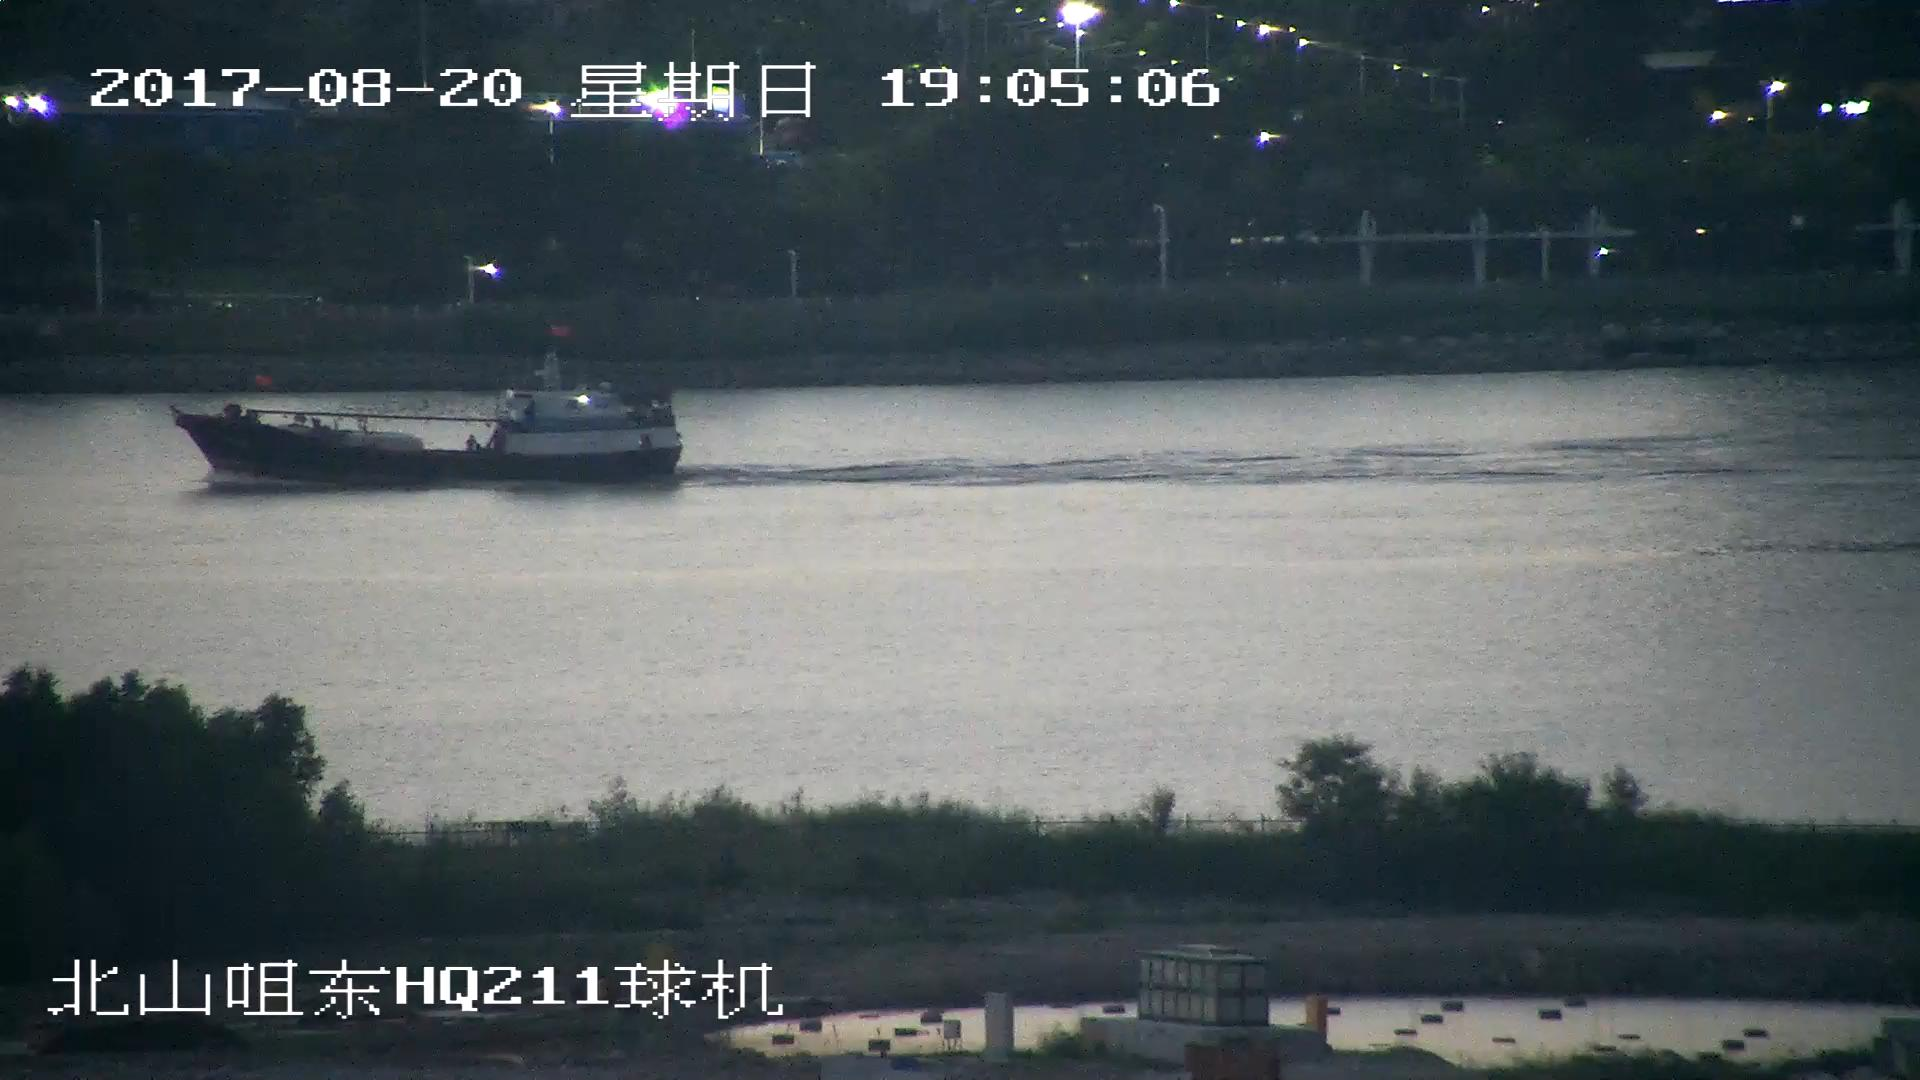fishing boat: (170, 353, 686, 487)
